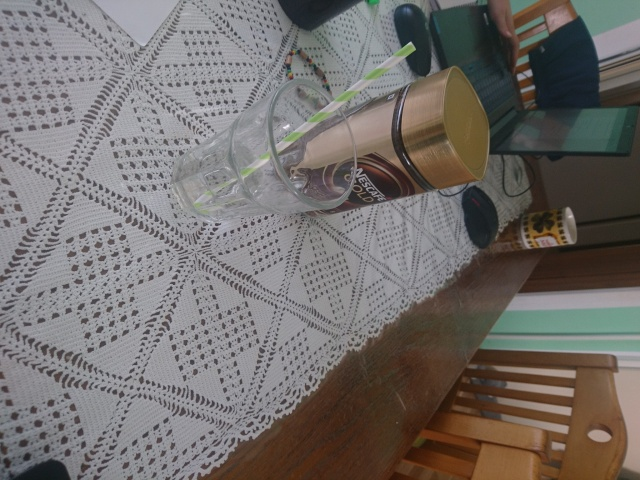Nescafe Gold 225g: (268, 64, 493, 219)
